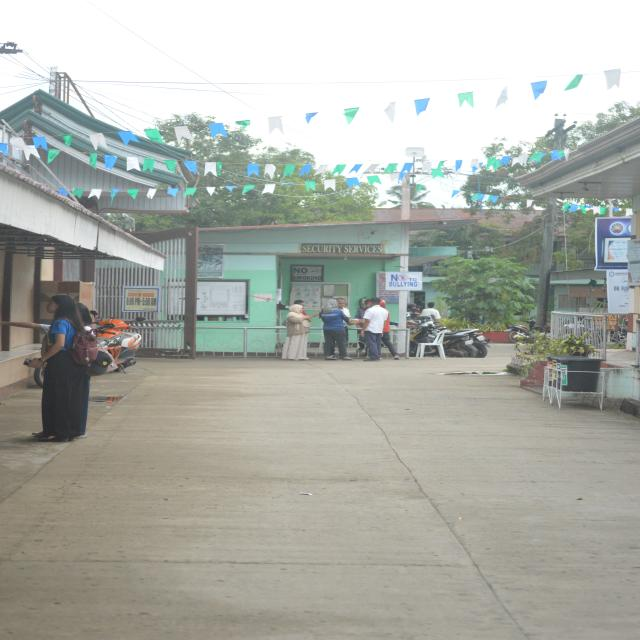person: (30, 294, 85, 442), (320, 299, 352, 360), (361, 298, 388, 361), (282, 305, 309, 359), (382, 313, 399, 359), (421, 302, 440, 320)
